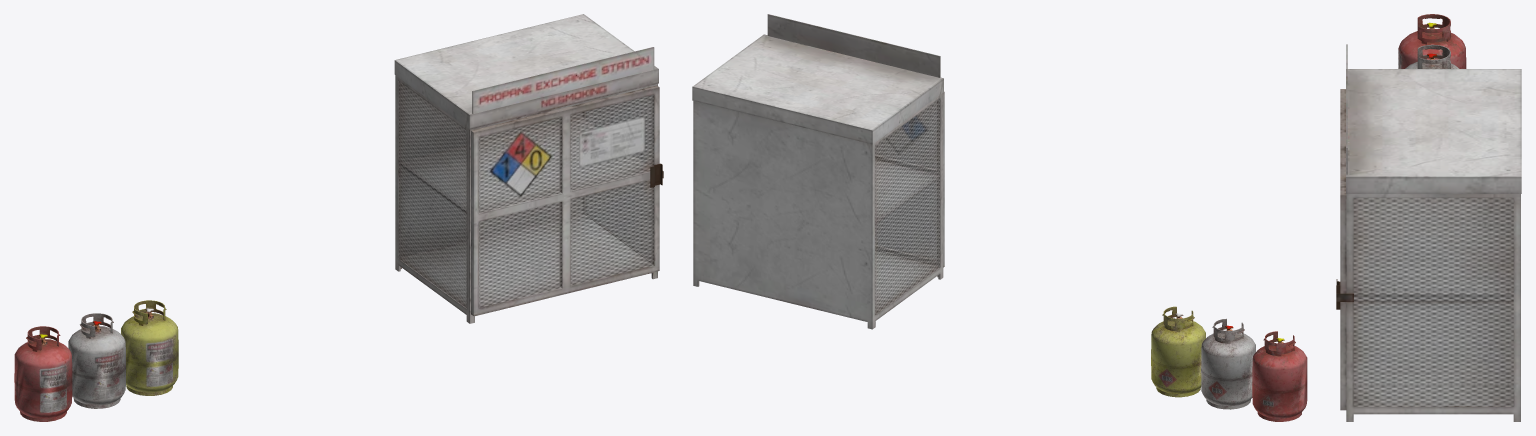
File: propane.glb
3 views of the same model, side by side, from view 1: azimuth 30°, elevation 25°; view 2: azimuth 150°, elevation 25°; view 3: azimuth 270°, elevation 25° (orthographic). The views are drawn at different scales.
Visible parts, largest first — view 1: pCube21, pCube16, pCube18, pCube19, pSphere1 (×3), pCube24, pCube17, pCube11, pCube20, pCube25; view 2: pCube18, pCube16, pCube19, pSphere1 (×3), pCube21, pCube25, pCube11, pCube24, pCube17; view 3: pCube20, pCube16, pCube24, pCube11, pCube18, pCube17, pSphere1 (×2), pCylinder2 (×2), pCube19, pCube25.
Boxes of the visible parts, <box> form: pCube21: <box>479,95,653,307</box>; pCube16: <box>394,14,658,129</box>; pCube18: <box>395,75,657,323</box>; pCube19: <box>399,81,466,307</box>; pSphere1 (×3): <box>14,311,178,418</box>; pCube24: <box>401,213,650,305</box>; pCube17: <box>471,85,659,315</box>; pCube11: <box>401,117,650,212</box>; pCube20: <box>586,96,650,260</box>; pCube25: <box>472,47,654,113</box>; pCube18: <box>693,93,943,329</box>; pCube16: <box>692,34,943,144</box>; pCube19: <box>875,98,939,314</box>; pSphere1 (×3): <box>1151,317,1307,418</box>; pCube21: <box>876,101,936,258</box>; pCube25: <box>767,14,940,77</box>; pCube11: <box>875,160,937,223</box>; pCube24: <box>875,251,937,312</box>; pCube17: <box>875,91,944,267</box>; pCube20: <box>1353,198,1513,406</box>; pCube16: <box>1346,69,1521,193</box>; pCube24: <box>1354,302,1513,405</box>; pCube11: <box>1354,198,1513,296</box>; pCube18: <box>1346,194,1520,421</box>; pCube17: <box>1340,89,1346,410</box>; pSphere1 (×2): <box>1398,26,1466,68</box>; pCylinder2 (×2): <box>1417,14,1450,68</box>; pCube19: <box>1354,297,1512,298</box>; pCube25: <box>1346,44,1347,174</box>.
Size of the model in its own units: 3.86 by 1.53 by 0.875.
10 materials, 10 textured.
